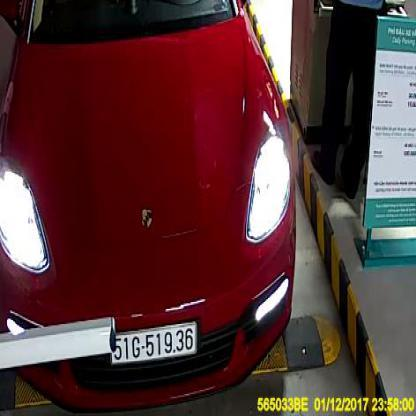biensoxe: (110, 321, 197, 365)
